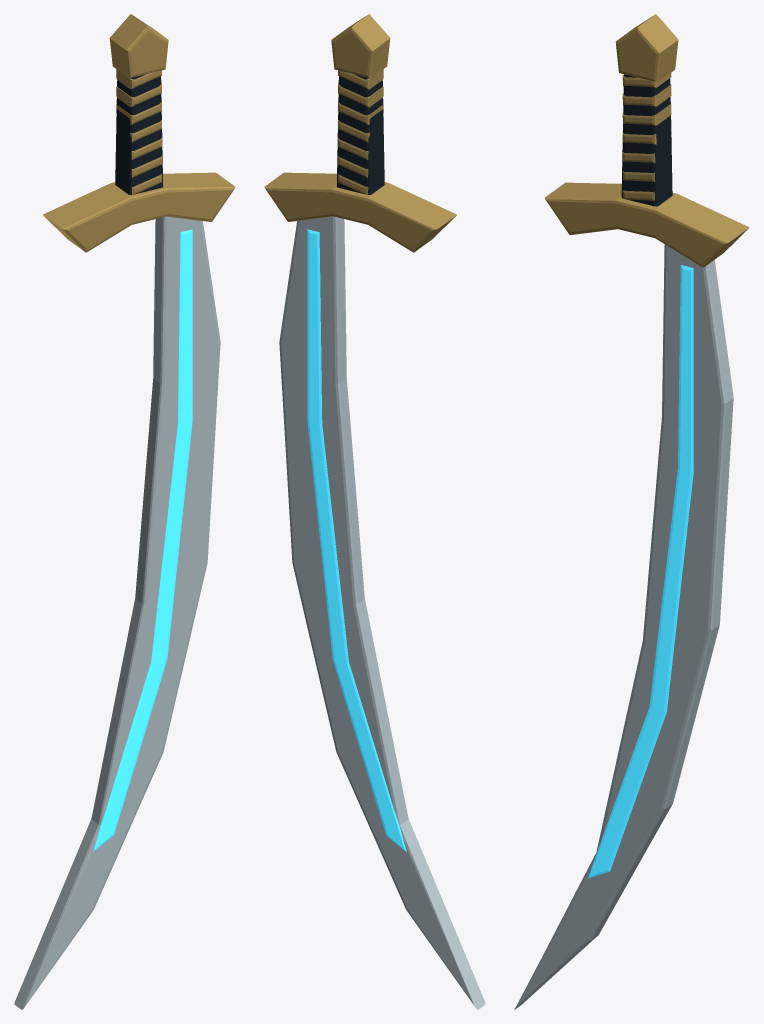
Rendered from saber.glb.
3 views of the same model, side by side, from view 1: azimuth 30°, elevation 25°; view 2: azimuth 150°, elevation 25°; view 3: azimuth 330°, elevation 25° (orthographic). The views are drawn at different scales.
Visible parts, largest first — view 1: curved-single-edge, water-channel, swept-guard, wrapped-grip, pommel; view 2: curved-single-edge, water-channel, swept-guard, wrapped-grip, pommel; view 3: curved-single-edge, water-channel, swept-guard, wrapped-grip, pommel.
Boxes of the visible parts, bbox=[...] form: curved-single-edge: bbox=[14, 216, 220, 1009]; water-channel: bbox=[93, 229, 192, 851]; swept-guard: bbox=[43, 172, 235, 252]; wrapped-grip: bbox=[115, 74, 163, 194]; pommel: bbox=[109, 14, 168, 78]; curved-single-edge: bbox=[279, 216, 485, 1009]; water-channel: bbox=[307, 229, 406, 851]; swept-guard: bbox=[264, 172, 456, 252]; wrapped-grip: bbox=[336, 74, 384, 194]; pommel: bbox=[331, 14, 390, 78]; curved-single-edge: bbox=[514, 244, 733, 1009]; water-channel: bbox=[588, 265, 693, 878]; swept-guard: bbox=[545, 182, 749, 267]; wrapped-grip: bbox=[621, 74, 672, 206]; pommel: bbox=[615, 14, 678, 82].
Bounding box in the file's own units: 0.4028 × 1.77 × 0.073.
